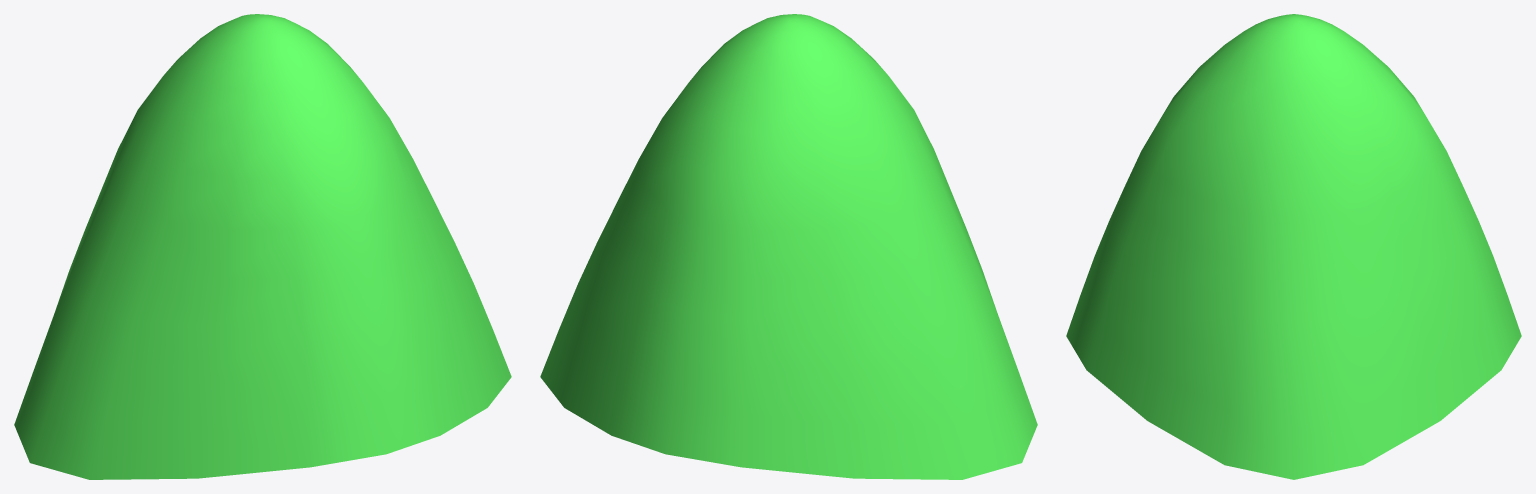
The model's file is barrier.DAE.
The picture shows the model from 3 angles, left to right: view 1: azimuth 30°, elevation 25°; view 2: azimuth 150°, elevation 25°; view 3: azimuth 270°, elevation 25°; orthographic projection. The views are drawn at different scales.
Parts seen in each view (by area): view 1: Sphere001; view 2: Sphere001; view 3: Sphere001.
Boxes of the visible parts, left/top/right/bottom form: Sphere001: left=14, top=14, right=511, bottom=479; Sphere001: left=540, top=14, right=1037, bottom=479; Sphere001: left=1066, top=14, right=1521, bottom=479.
Size of the model in its own units: 403 by 320 by 370.
